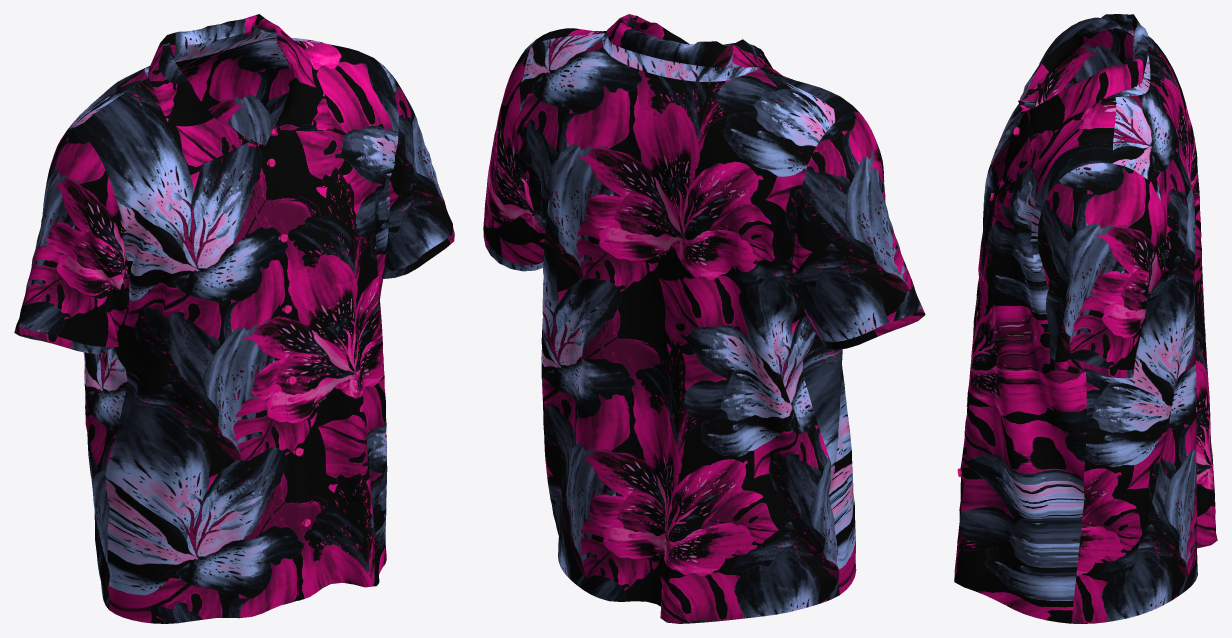
File: midnight-blossom.glb
3 renders of one model, left to right at view 1: azimuth 30°, elevation 25°; view 2: azimuth 150°, elevation 25°; view 3: azimuth 270°, elevation 25°, orthographic. The views are drawn at different scales.
Parts seen in each view (by area): view 1: Object_6, Object_13, Object_3, Object_5, Object_12, Object_4, Object_11, Object_8, Object_7; view 2: Object_3, Object_13, Object_6, Object_12, Object_5, Object_8; view 3: Object_3, Object_6, Object_12, Object_5, Object_13, Object_11, Object_7, Object_4.
Part boxes in pixels (x1,y1,x2,y2): Object_6: (78, 40, 398, 623); Object_13: (16, 127, 128, 347); Object_3: (67, 37, 331, 609); Object_5: (144, 14, 333, 169); Object_12: (375, 59, 452, 271); Object_4: (245, 124, 311, 600); Object_11: (319, 175, 376, 285); Object_8: (14, 325, 111, 353); Object_7: (383, 227, 454, 278); Object_3: (515, 33, 840, 623); Object_13: (792, 111, 921, 342); Object_6: (532, 28, 861, 594); Object_12: (483, 40, 544, 264); Object_5: (602, 14, 782, 81); Object_8: (820, 307, 925, 349); Object_3: (1071, 30, 1217, 623); Object_6: (954, 17, 1116, 623); Object_12: (1037, 163, 1171, 370); Object_5: (1024, 14, 1150, 154); Object_13: (1037, 28, 1133, 104); Object_11: (978, 180, 1008, 298); Object_7: (1050, 358, 1134, 378); Object_4: (960, 96, 1035, 479).
Size of the model in its own units: 0.589 by 0.7019 by 0.3166.
2 materials, 1 textured.
